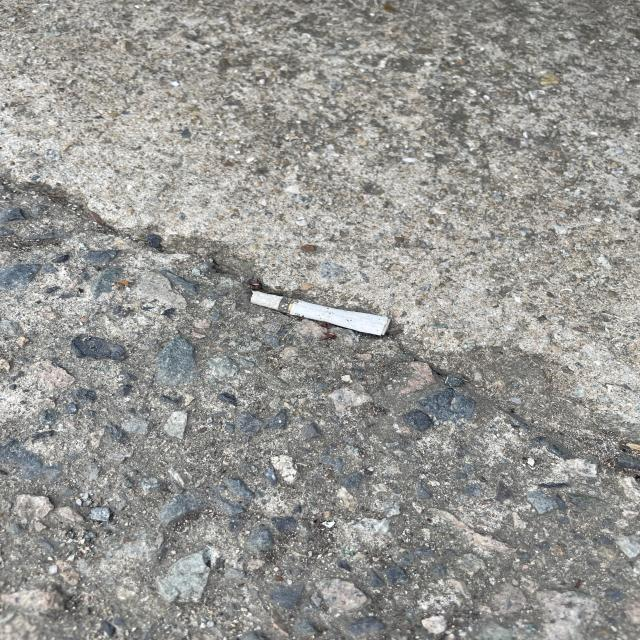litter: (249, 291, 391, 336)
